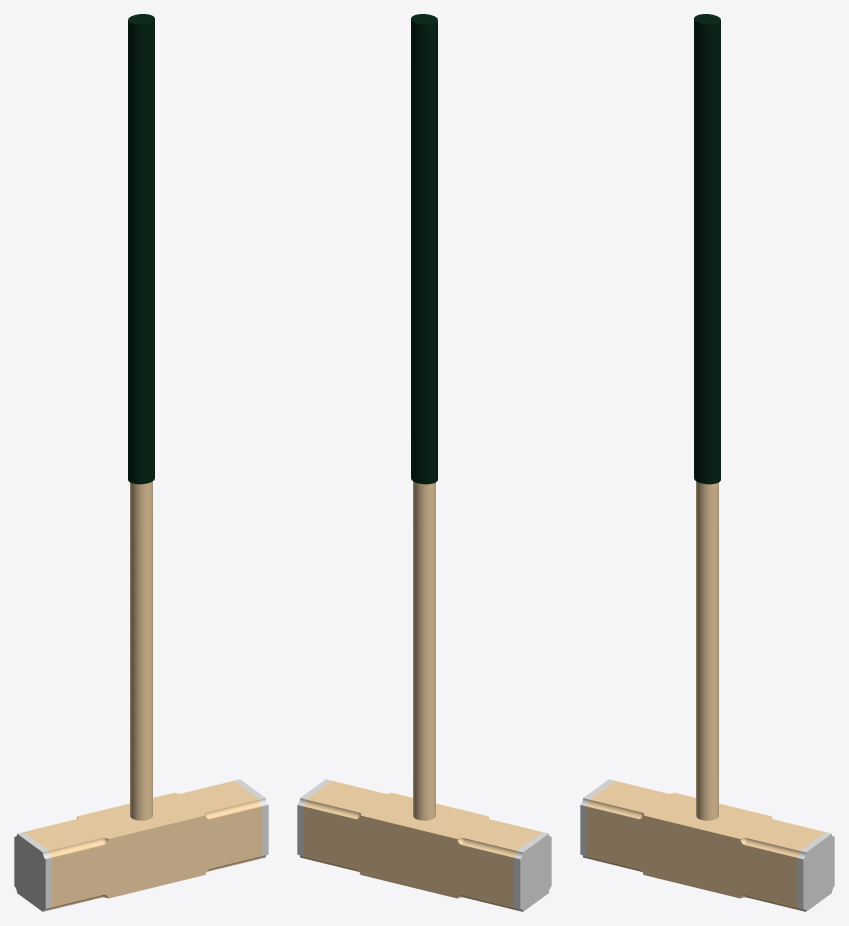
The model's file is mallet1.fbx.
3 views of the same model, side by side, from view 1: azimuth 30°, elevation 25°; view 2: azimuth 150°, elevation 25°; view 3: azimuth 330°, elevation 25° (orthographic).
Visible parts, largest first — view 1: Mallet; view 2: Mallet; view 3: Mallet.
Part boxes in pixels (x1,y1,x2,y2): Mallet: (14,14,268,911); Mallet: (297,14,551,911); Mallet: (580,14,834,911).
Bounding box in the file's own units: 24.93 × 6.03 × 91.44.
